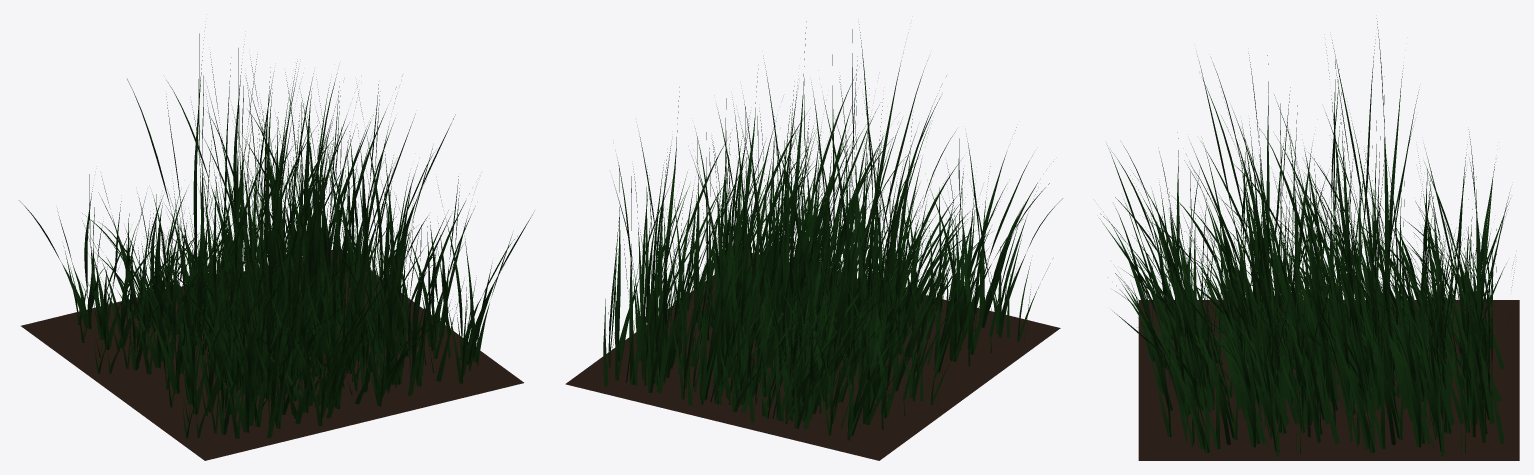
Rendered from Grass 1x1.dae.
3 renders of one model, left to right at view 1: azimuth 30°, elevation 25°; view 2: azimuth 150°, elevation 25°; view 3: azimuth 270°, elevation 25°, orthographic. The views are drawn at different scales.
Parts seen in each view (by area): view 1: pPlane2; view 2: pPlane2; view 3: pPlane2.
Boxes of the visible parts, <box> form: pPlane2: <box>19,27,534,460</box>; pPlane2: <box>565,21,1062,460</box>; pPlane2: <box>1099,18,1519,460</box>.
Bounding box in the file's own units: 26.74 × 25.22 × 27.98.
